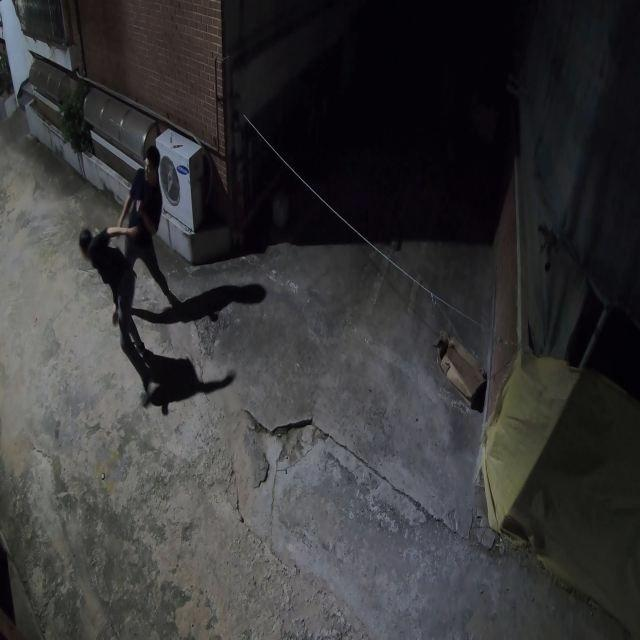fight: (81, 130, 173, 414)
